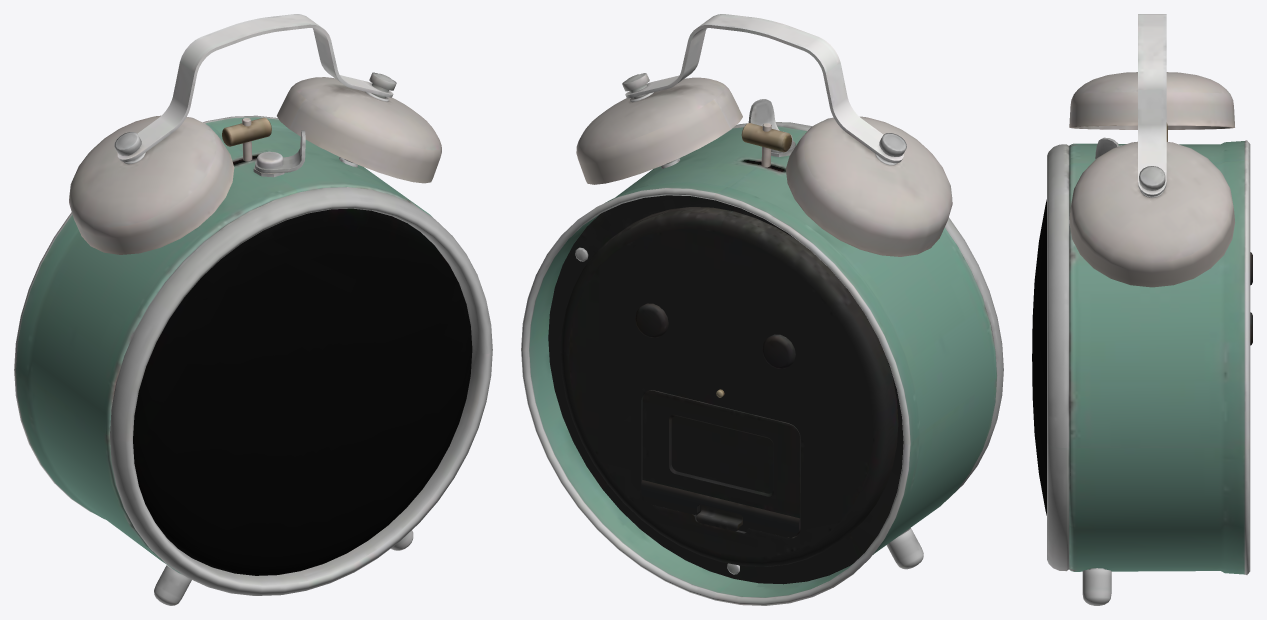
The model's file is alarm_clock_01.glb.
The picture shows the model from 3 angles, left to right: view 1: azimuth 30°, elevation 25°; view 2: azimuth 150°, elevation 25°; view 3: azimuth 270°, elevation 25°; orthographic projection. The views are drawn at different scales.
Parts seen in each view (by area): view 1: alarm_clock_01; view 2: alarm_clock_01; view 3: alarm_clock_01.
Part boxes in pixels (x1=…): alarm_clock_01: x1=14, y1=14, x2=492, y2=605; alarm_clock_01: x1=521, y1=14, x2=1003, y2=605; alarm_clock_01: x1=1032, y1=14, x2=1252, y2=605.
Size of the model in its own units: 0.1317 by 0.1742 by 0.0667.
Materials: 2 (2 with a texture image).
